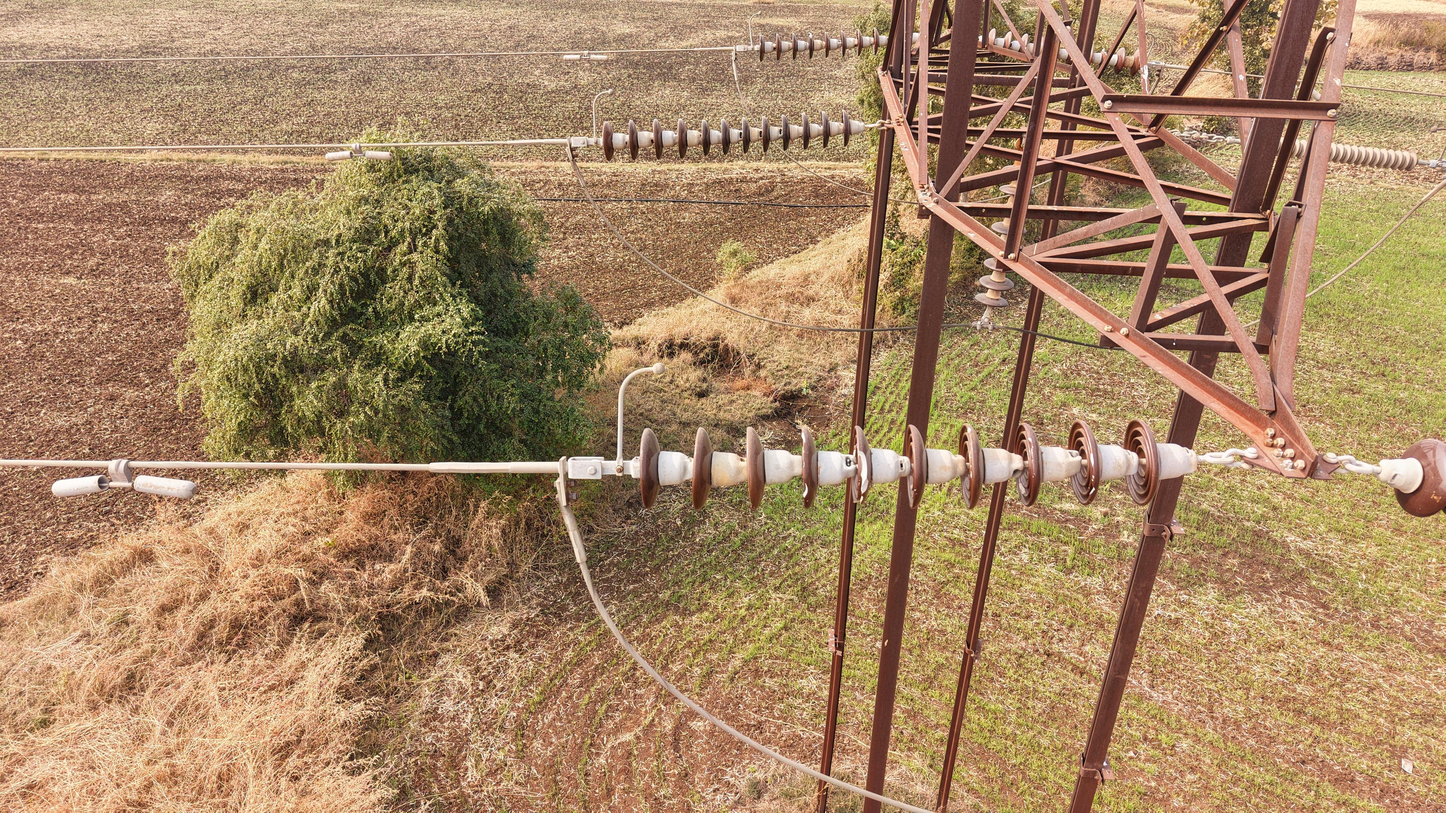broken_insulator: (1067, 418, 1101, 506), (1011, 422, 1042, 508), (957, 424, 982, 509), (904, 424, 928, 511), (797, 425, 820, 509), (850, 425, 872, 506), (807, 32, 815, 60), (1099, 48, 1108, 68)
